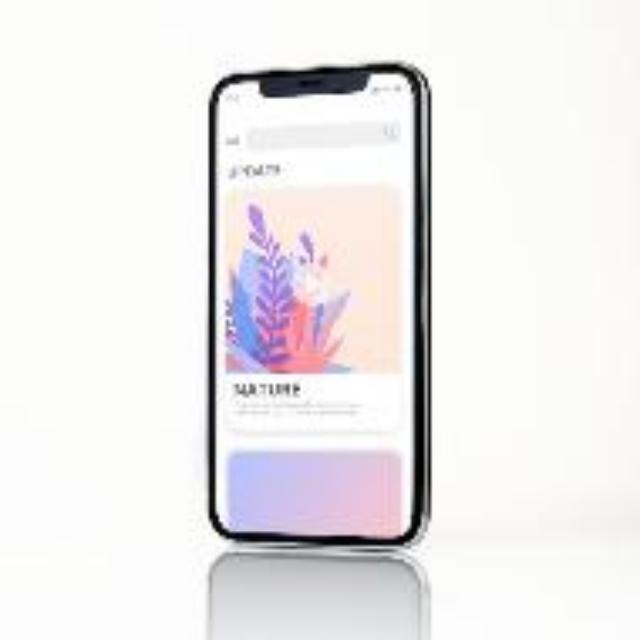Phone: (206, 61, 428, 550)
